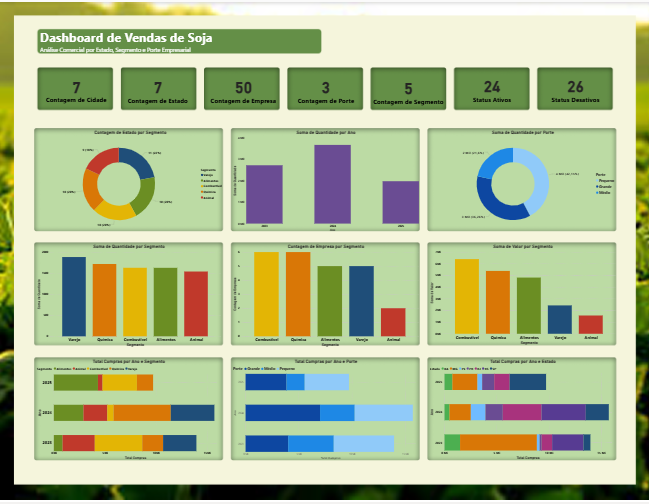

The page's visual inventory and layout, read from the dashboard file:
{"tool":"powerbi","page":{"name":"Clientes","canvas":[3076,2356],"ordinal":0},"visuals":[{"type":"donutChart","fields":{"Category":["Clientes.Segmento"],"Y":["CountNonNull(Clientes.Estado)"]},"box":[172.9,604.3,890,484.3],"z":0},{"type":"card","title":"Total de cidades","fields":{"Values":["Count(Clientes.Cidade)"]},"box":[172.5,305,380,207.5],"z":1000},{"type":"card","title":"Total de cidades","fields":{"Values":["Count(Clientes.Estado)"]},"box":[562.5,310,375,200],"z":2000},{"type":"card","title":"Total de cidades","fields":{"Values":["Count(Clientes.Empresa)"]},"box":[965,315,370,197.5],"z":3000},{"type":"card","title":"Total de cidades","fields":{"Values":["Count(Clientes.Porte)"]},"box":[1355,315,367.5,197.5],"z":4000},{"type":"card","title":"Total de cidades","fields":{"Values":["Count(Clientes.Segmento)"]},"box":[1755,315,352.5,200],"z":5000},{"type":"card","title":"Total de cidades","fields":{"Values":["CountNonNull(Clientes.Status)"]},"box":[2145,312.5,357.5,197.5],"z":6000},{"type":"card","title":"Total de cidades","fields":{"Values":["CountNonNull(Clientes.Status)"]},"box":[2538.3,313.3,353.3,196.7],"z":7000},{"type":"lineStackedColumnComboChart","fields":{"Category":["Clientes.Segmento"],"Y":["CountNonNull(Clientes.Empresa)"]},"box":[1096,1138,886,492],"z":8000},{"type":"lineStackedColumnComboChart","fields":{"Category":["Clientes.Segmento"],"Y":["Sum(Clientes.Quantidade)"]},"box":[172,1138,876,492],"z":9000},{"type":"lineStackedColumnComboChart","fields":{"Category":["Clientes.Segmento"],"Y":["Sum(Clientes.Valor)"]},"box":[2024,1138,886,480],"z":10000},{"type":"columnChart","fields":{"Category":["Clientes.Data do Contrato.Variation.Hierarquia de datas.Ano"],"Y":["Sum(Clientes.Quantidade)"]},"box":[1096,604,886,484],"z":11000},{"type":"donutChart","fields":{"Category":["Clientes.Porte"],"Y":["Sum(Clientes.Quantidade)"]},"box":[2024,604,886,484],"z":12000},{"type":"barChart","fields":{"Category":["Clientes.Data do Contrato.Variation.Hierarquia de datas.Ano"],"Y":["Clientes.Total Compras"],"Series":["Clientes.Segmento"]},"box":[172,1680,876,480],"z":13000},{"type":"barChart","fields":{"Category":["Clientes.Data do Contrato.Variation.Hierarquia de datas.Ano"],"Y":["Clientes.Total Compras"],"Series":["Clientes.Porte"]},"box":[1096,1680,886,480],"z":14000},{"type":"barChart","fields":{"Category":["Clientes.Data do Contrato.Variation.Hierarquia de datas.Ano"],"Y":["Clientes.Total Compras"],"Series":["Clientes.Estado"]},"box":[2024,1680,886,480],"z":15000},{"type":"textbox","box":[190,122.9,1041.4,125.7],"z":16000}]}

Visuals, with their boxes in screenshot pixels (x1, y1, x2, y2), scaled from the page's 3076x2356 canvas onto the 649x504 screenshot:
donutChart - Clientes.Segmento x CountNonNull(Clientes.Estado): [36, 129, 224, 233]
"Total de cidades" card: [36, 65, 117, 110]
"Total de cidades" card: [119, 66, 198, 109]
"Total de cidades" card: [204, 67, 282, 110]
"Total de cidades" card: [286, 67, 363, 110]
"Total de cidades" card: [370, 67, 445, 110]
"Total de cidades" card: [453, 67, 528, 109]
"Total de cidades" card: [536, 67, 610, 109]
lineStackedColumnComboChart - Clientes.Segmento x CountNonNull(Clientes.Empresa): [231, 243, 418, 349]
lineStackedColumnComboChart - Clientes.Segmento x Sum(Clientes.Quantidade): [36, 243, 221, 349]
lineStackedColumnComboChart - Clientes.Segmento x Sum(Clientes.Valor): [427, 243, 614, 346]
columnChart - Clientes.Data do Contrato.Variation.Hierarquia de datas.Ano x Sum(Clientes.Quantidade): [231, 129, 418, 233]
donutChart - Clientes.Porte x Sum(Clientes.Quantidade): [427, 129, 614, 233]
barChart - Clientes.Data do Contrato.Variation.Hierarquia de datas.Ano x Clientes.Total Compras: [36, 359, 221, 462]
barChart - Clientes.Data do Contrato.Variation.Hierarquia de datas.Ano x Clientes.Total Compras: [231, 359, 418, 462]
barChart - Clientes.Data do Contrato.Variation.Hierarquia de datas.Ano x Clientes.Total Compras: [427, 359, 614, 462]
textbox: [40, 26, 260, 53]
